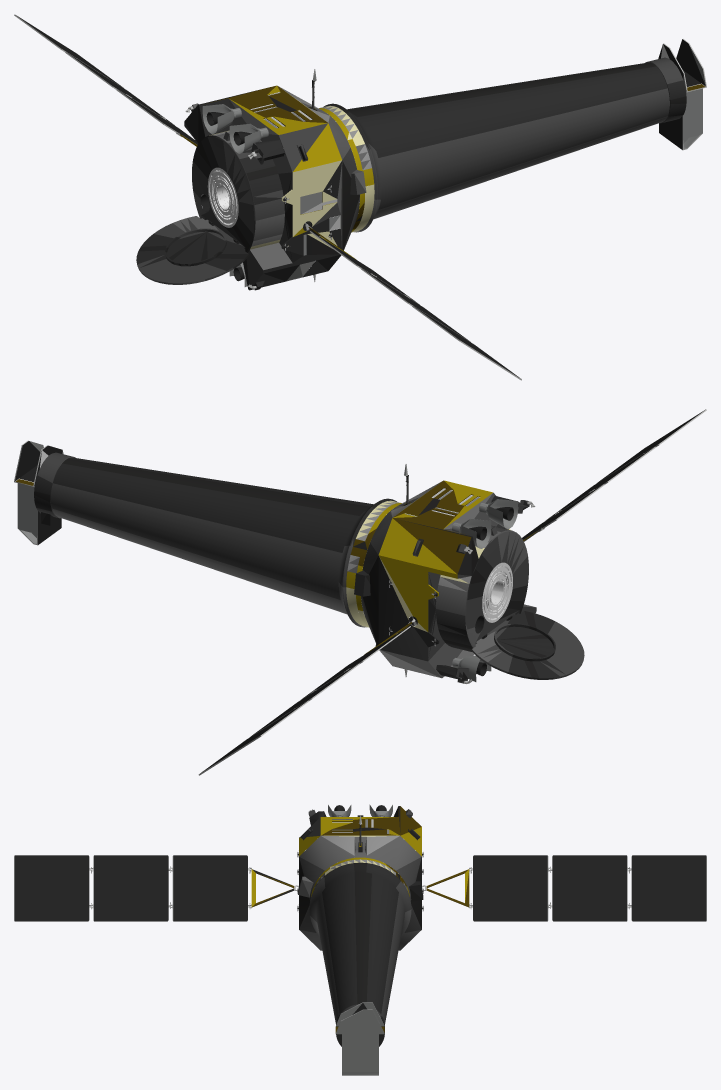
Rendered from chandra.glb.
3 views of the same model, one above another, from view 1: azimuth 30°, elevation 25°; view 2: azimuth 150°, elevation 25°; view 3: azimuth 270°, elevation 25° (orthographic). The views are drawn at different scales.
Parts seen in each view (by area): view 1: foil, body; view 2: foil, body; view 3: body, foil.
Boxes of the visible parts, bbox=[...] form: foil: bbox=[136, 57, 705, 290]; body: bbox=[14, 14, 706, 380]; foil: bbox=[16, 452, 584, 683]; body: bbox=[14, 409, 706, 775]; body: bbox=[14, 804, 706, 1075]; foil: bbox=[251, 806, 469, 1046].
Bounding box in the file's own units: 13.78 × 5.14 × 19.51.
